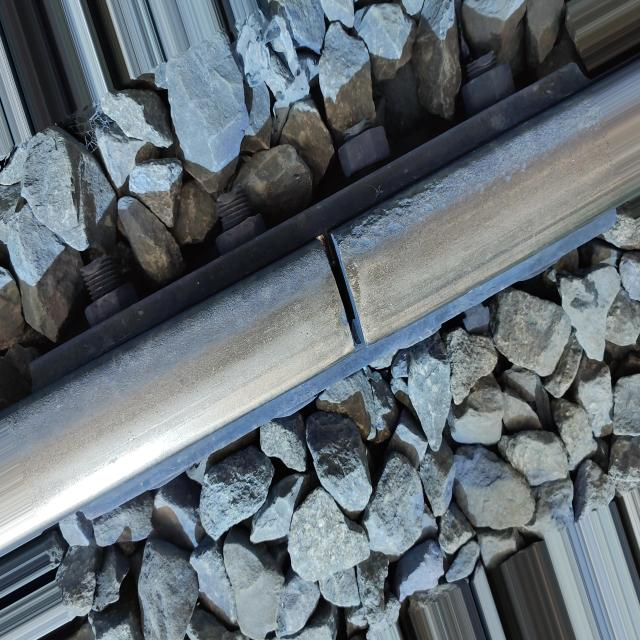crack: (295, 214, 394, 363)
